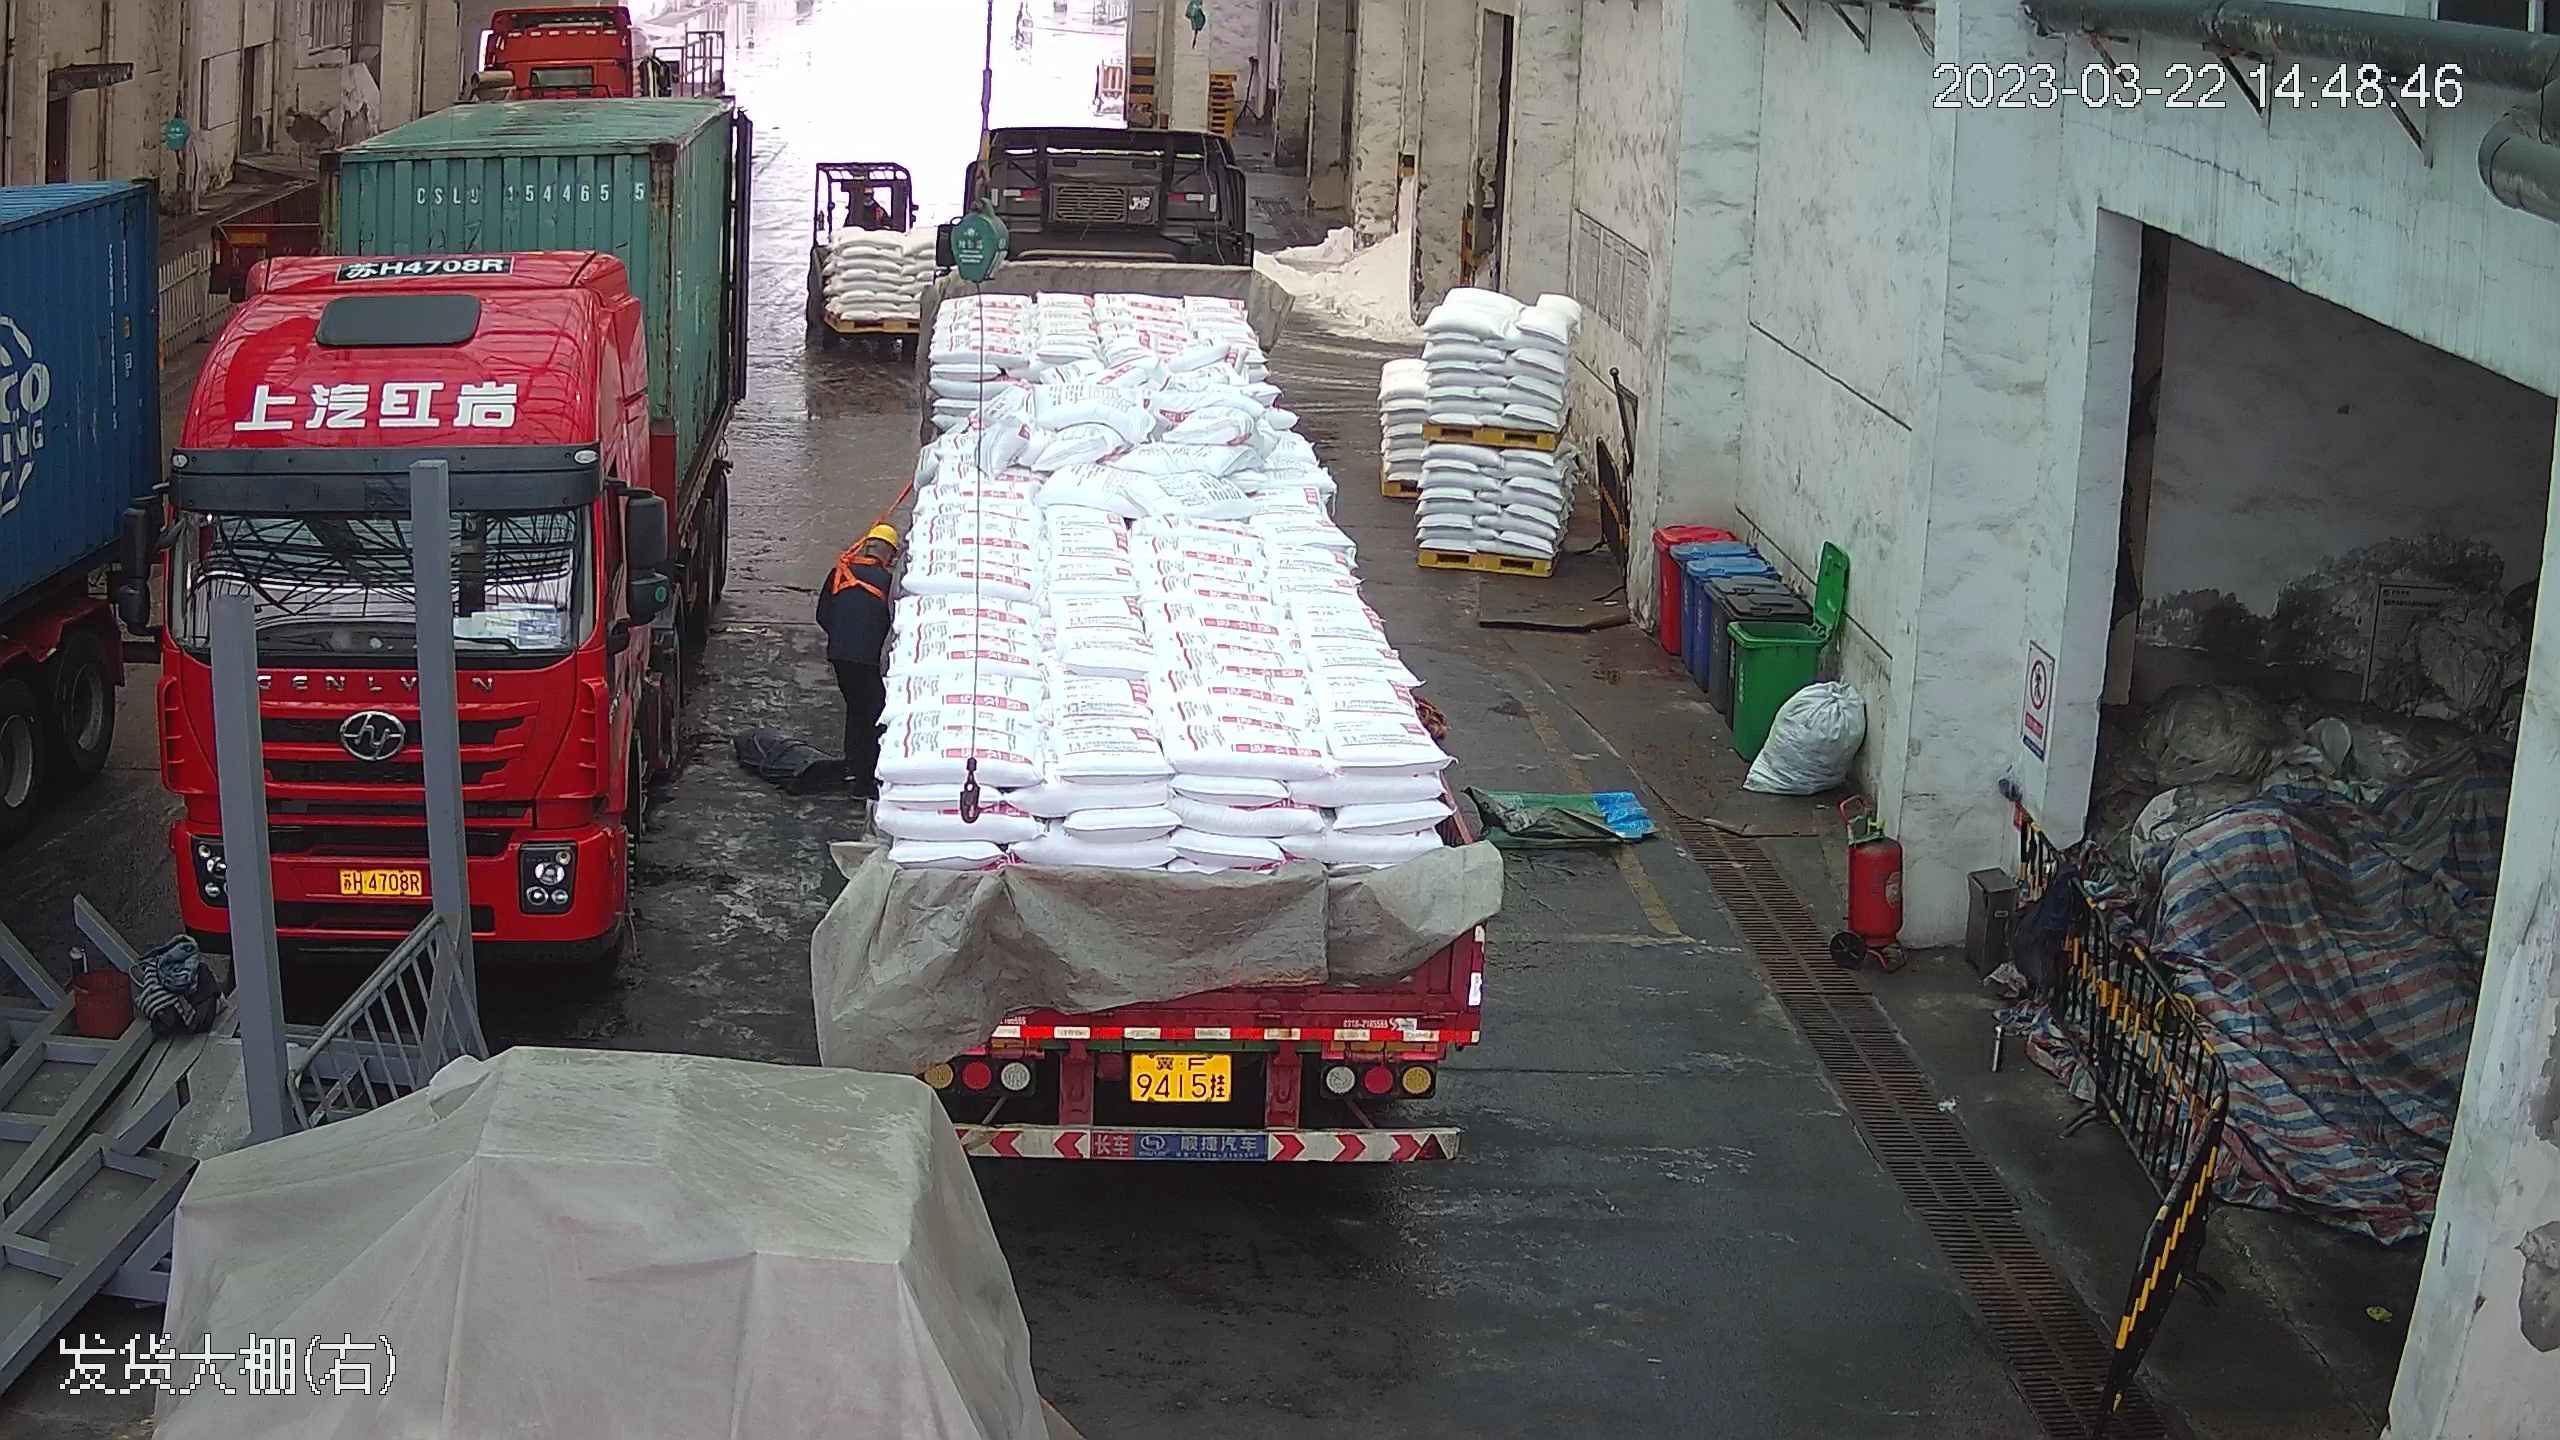belt: (828, 532, 892, 599)
head: (826, 521, 905, 599)
helmet: (862, 520, 902, 553)
people: (814, 517, 907, 800)
truck: (846, 52, 1513, 1191), (146, 17, 755, 961), (1, 45, 151, 985)
